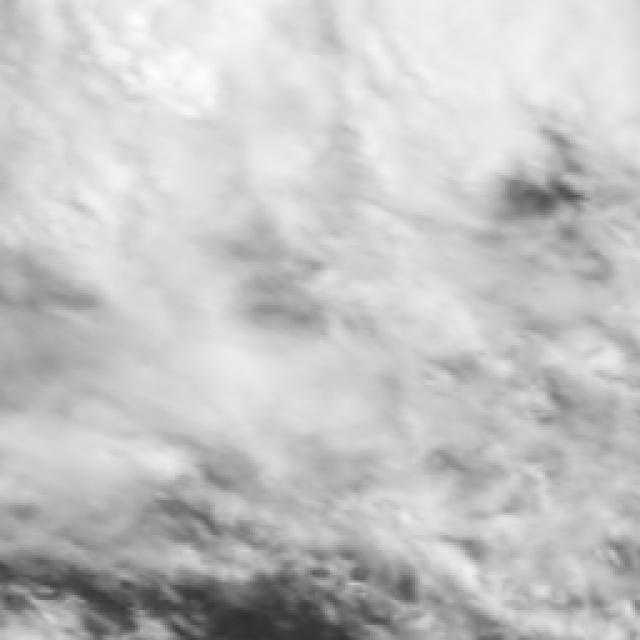CB: (27, 5, 290, 148)
